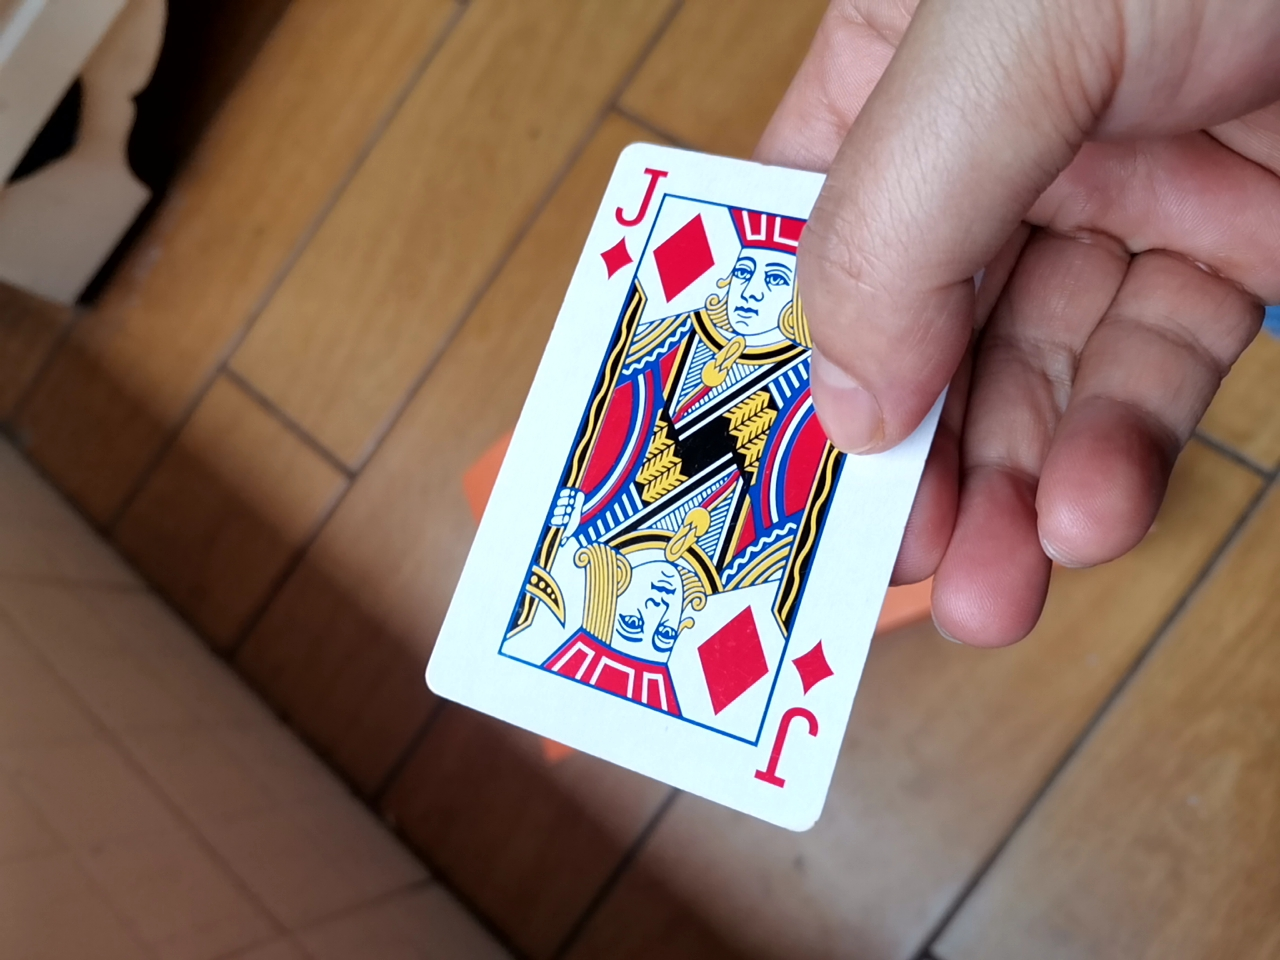fk j: (429, 122, 932, 853)
